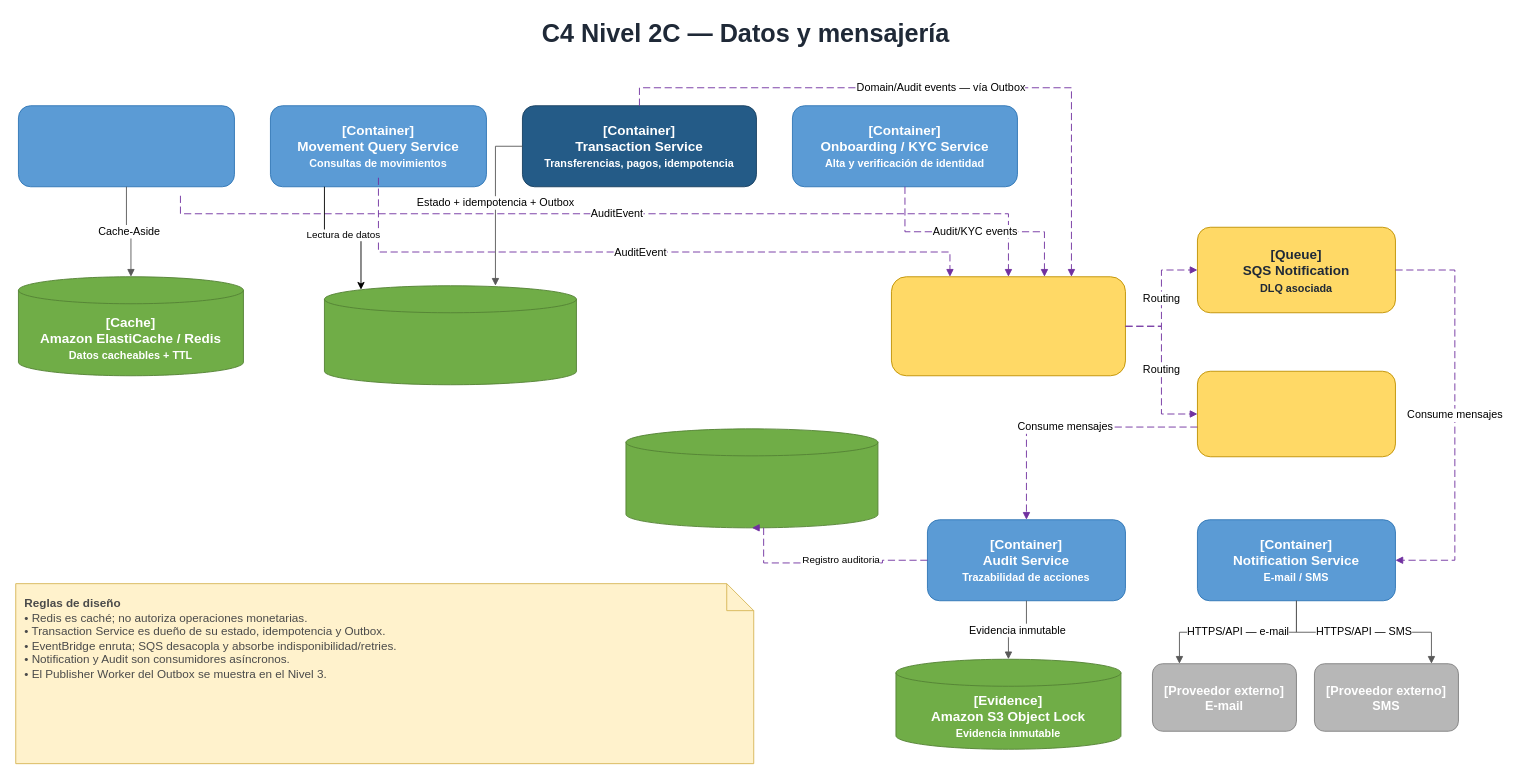
This 1518x779 diagram has some shape labels left out. Each missing label, with the centre of its shape:
"[Container] Customer Query Service Consultas de cliente" goes at (x=126, y=146).
"[Database] Amazon Aurora PostgreSQL Estado local + idempotencia + Outbox" goes at (x=450, y=335).
"[Database] Audit Database Registros de auditoria" goes at (x=751, y=478).
"[Event Bus] Amazon EventBridge Routing de eventos" goes at (x=1008, y=326).
"[Queue] SQS Audit DLQ asociada" goes at (x=1296, y=413).
